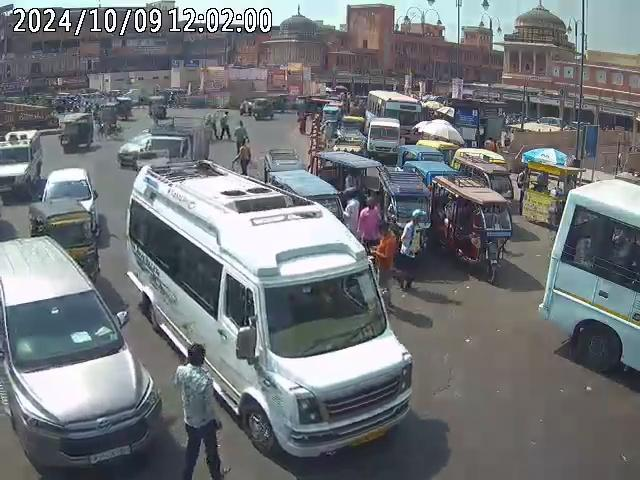auto: (435, 174, 515, 280), (27, 198, 100, 270), (380, 165, 429, 241), (316, 151, 385, 202), (58, 111, 94, 152), (113, 96, 134, 120), (146, 96, 167, 119)
bus: (121, 157, 416, 463), (540, 176, 640, 377), (364, 89, 421, 136)
car: (0, 231, 161, 478), (117, 118, 212, 169), (34, 166, 100, 217), (0, 135, 45, 201)
